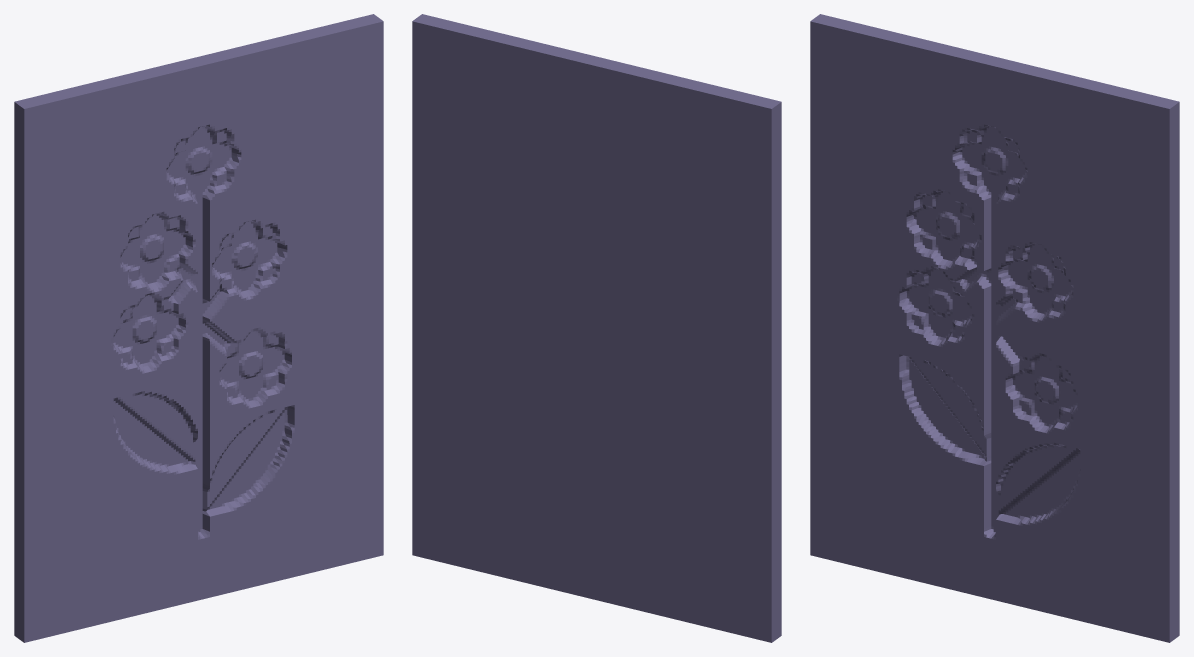
File: daffodil.glb
3 views of the same model, side by side, from view 1: azimuth 30°, elevation 25°; view 2: azimuth 150°, elevation 25°; view 3: azimuth 330°, elevation 25° (orthographic).
Visible parts, largest first — view 1: Plane.031; view 2: Plane.031; view 3: Plane.031.
Part boxes in pixels (x1,y1,x2,y2): Plane.031: (14,14,383,642); Plane.031: (412,14,781,642); Plane.031: (810,14,1179,642).
Size of the model in its own units: 4.1 by 5.82 by 0.1981.
